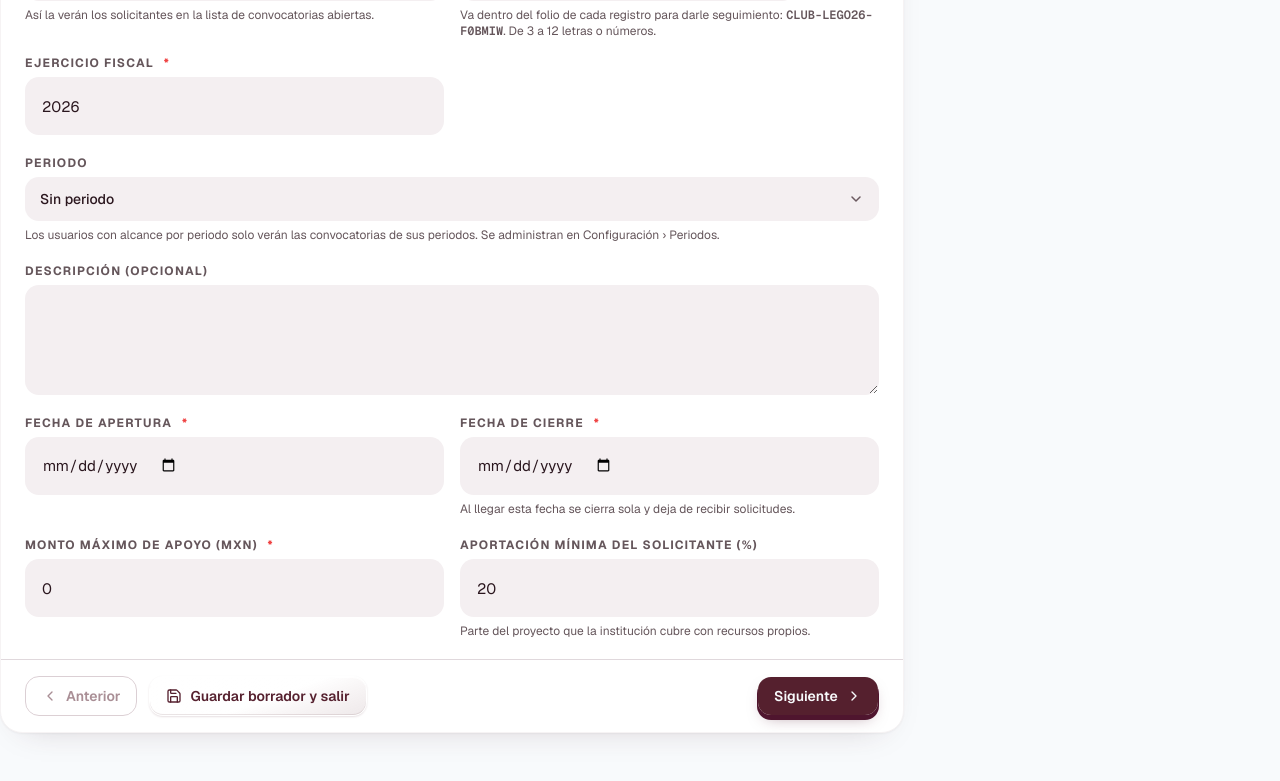
Scenario: ConvocatoriasNuevaPage — Wizard 7 pasos › al hacer click en "Siguiente" con campos vacíos no avanza y muestra errores de validación
(page scrolled)
Click the button "Siguiente".
click(818, 696)  # box [757,676,879,716]
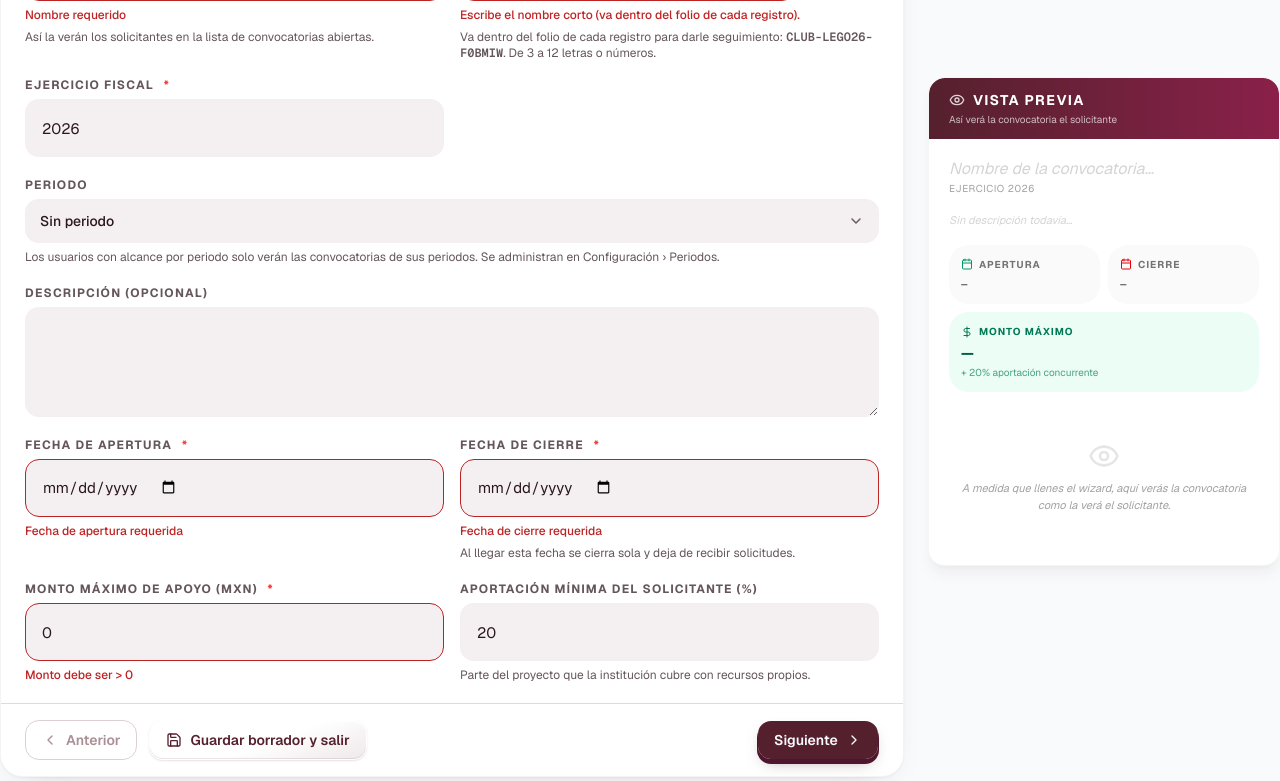
Expected: the text "Nombre requerido" is shown, [25,7,126,23]
